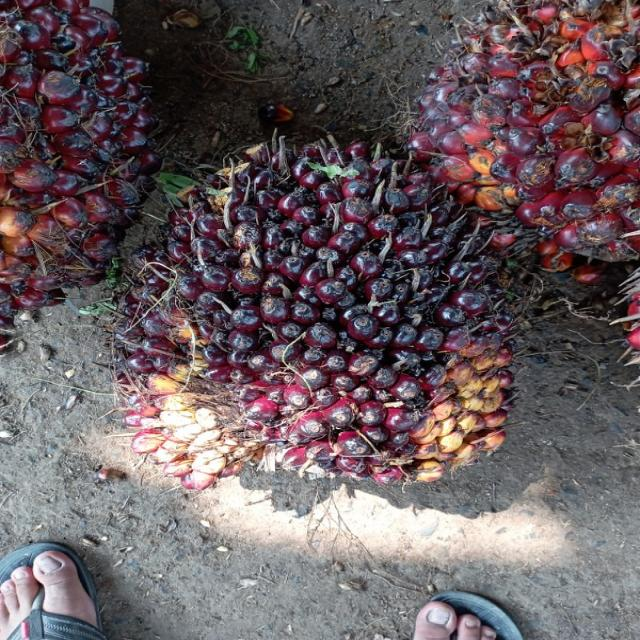fraksi 1: (92, 66, 533, 535)
